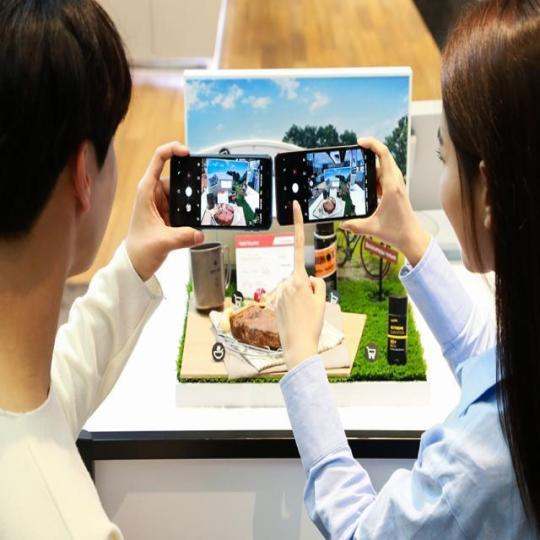phone: (166, 140, 374, 231)
